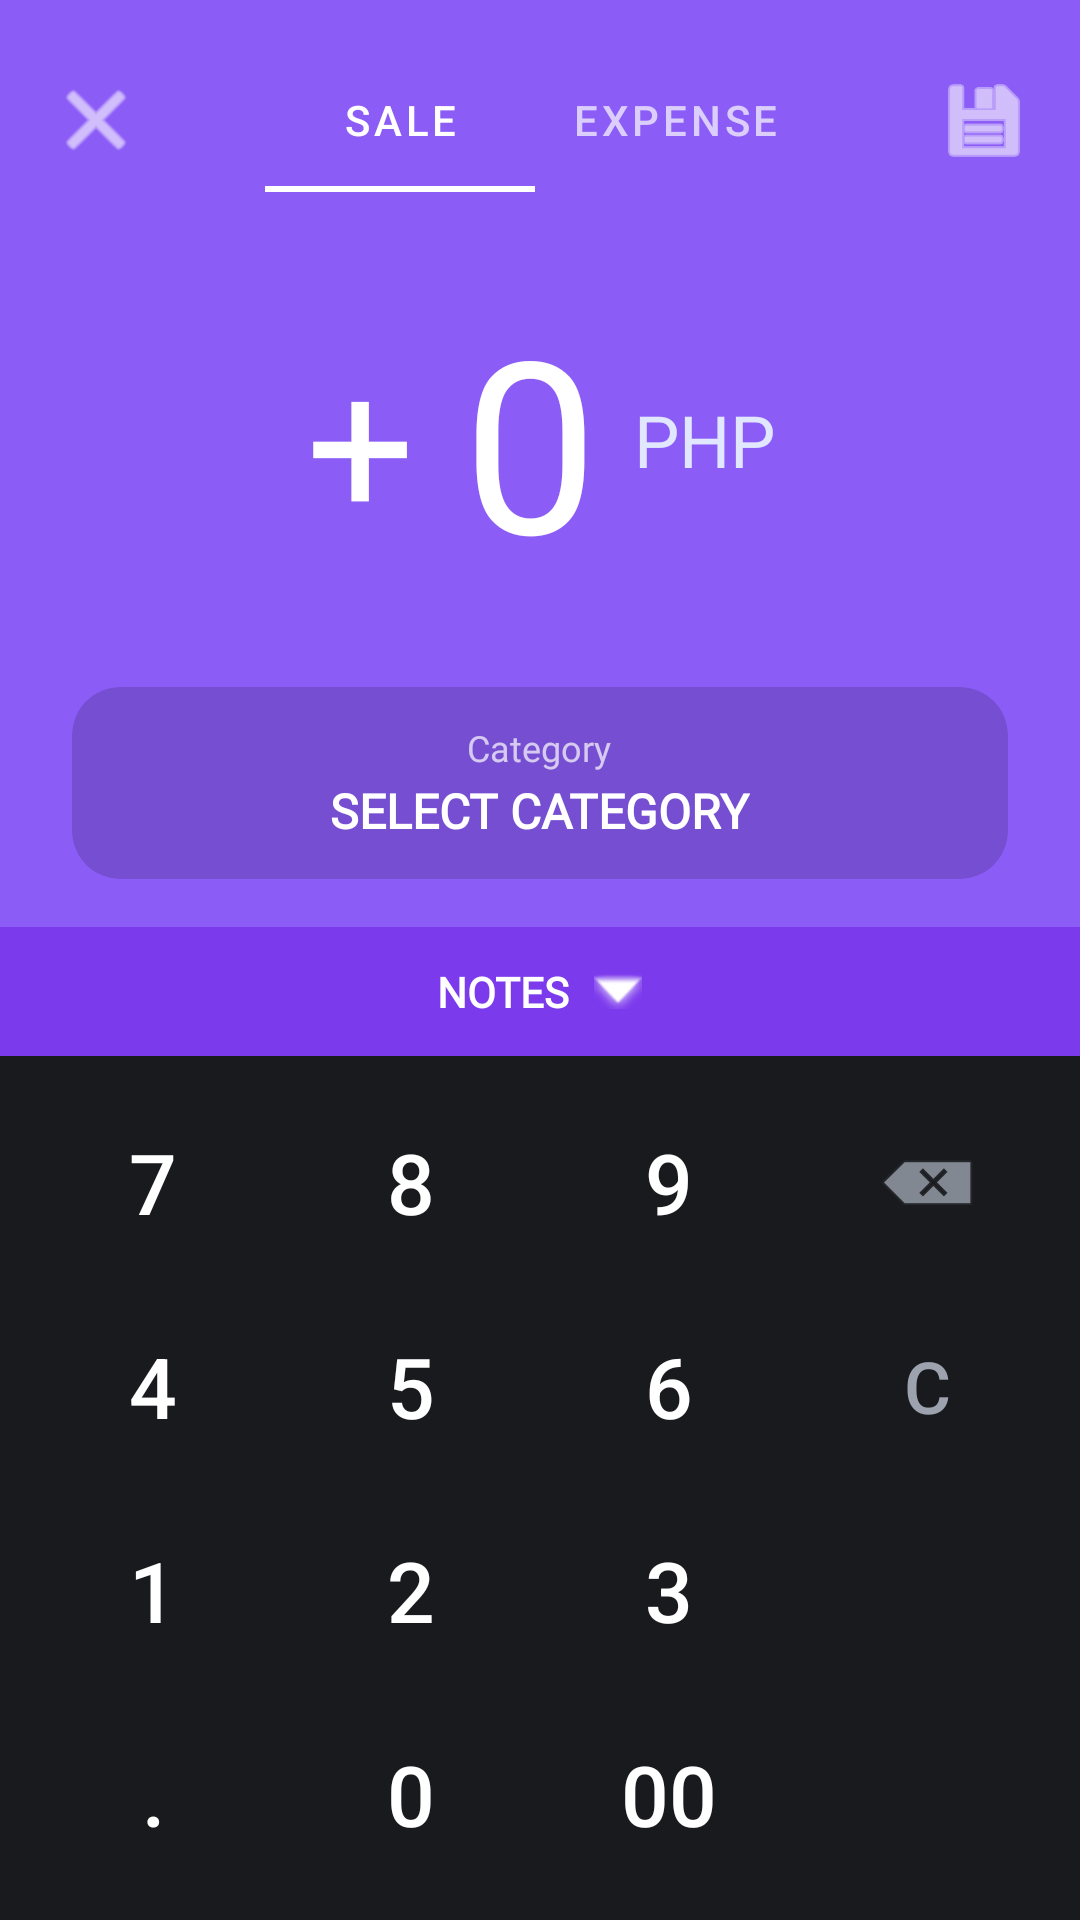

Icons on this 1080w x 1920h Android screen, each with the point to tap as (x,y):
arrow down float: (618,991)
Close: (96,120)
delete: (927,1183)
Save: (984,120)
